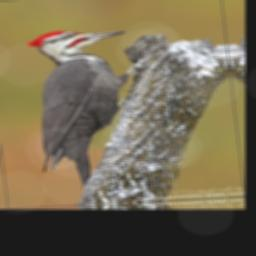Woodpecker: (24, 26, 166, 194)
